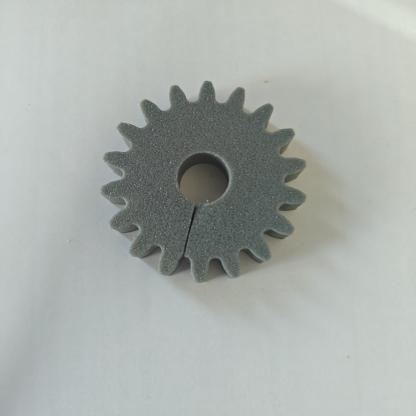defect: (147, 191, 227, 280)
gear: (92, 71, 307, 288)
